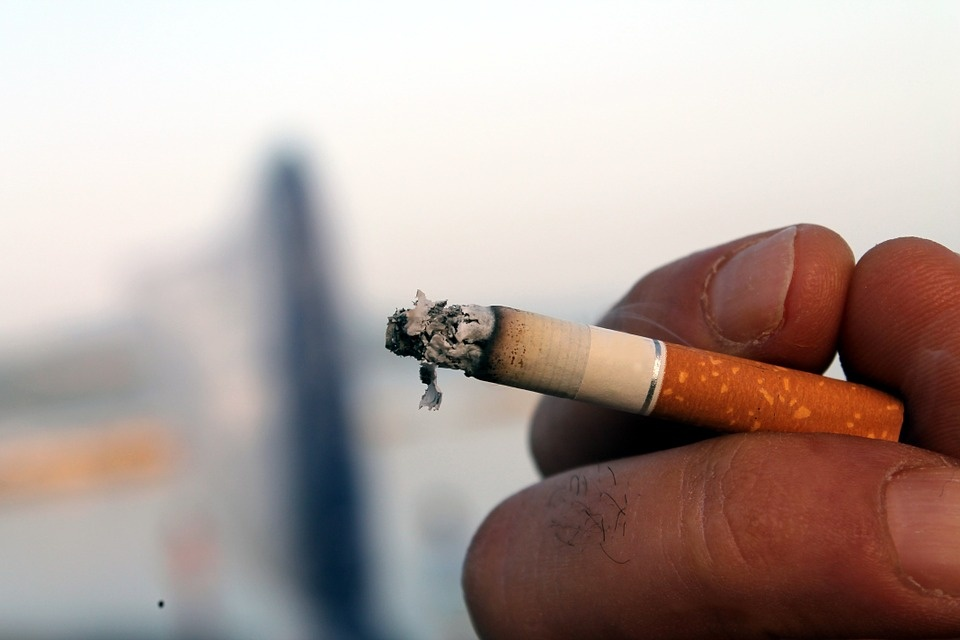sigaretta: (408, 292, 922, 448)
